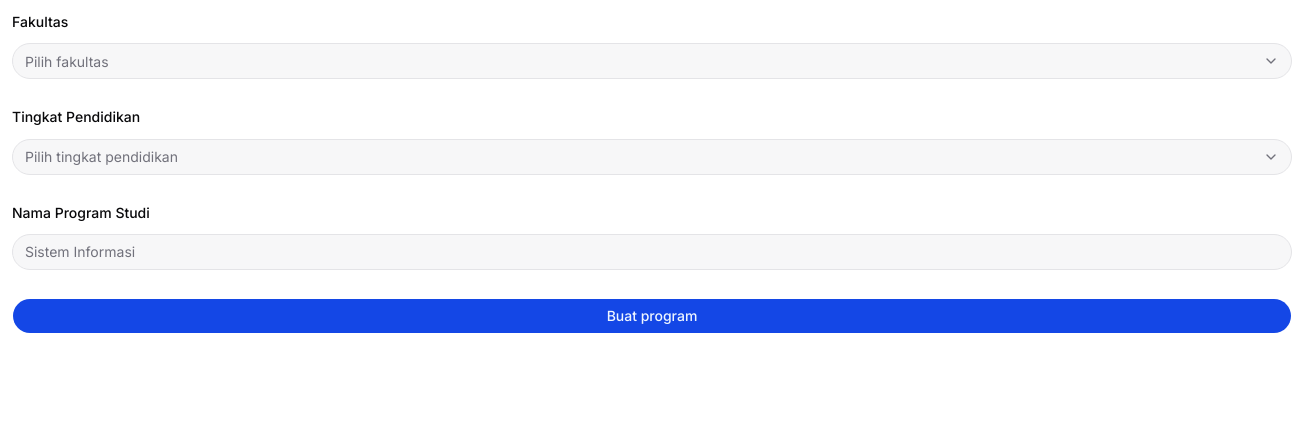
Test case: ProgramForm › Render › should show error when submit with invalid form
What coordinates should you click on to do the following:
click the button "Buat program"
I would click on:
 (652, 316)
Its box is [12, 298, 1292, 334].
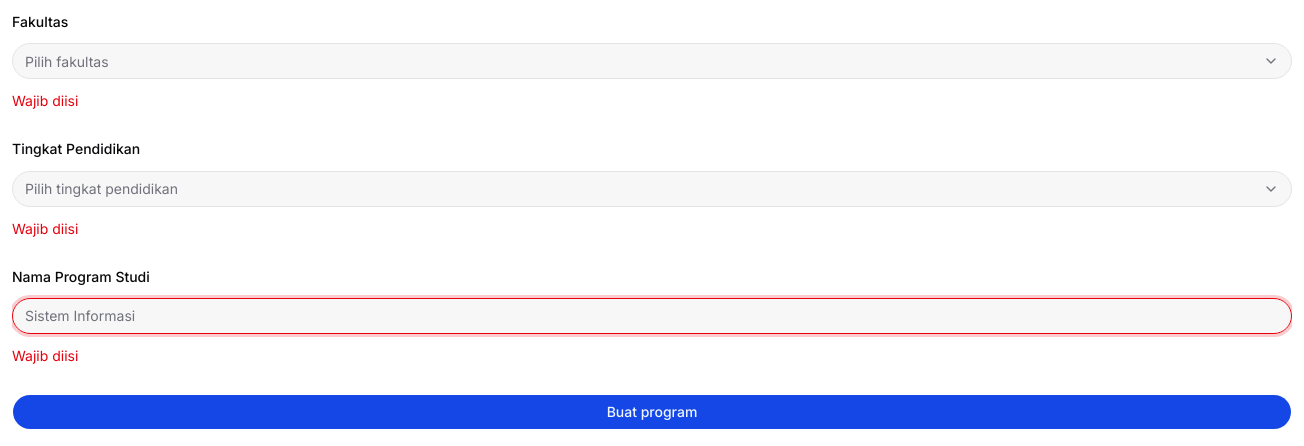
Expected: the text "Wajib diisi" below "Fakultas" is shown, [12, 92, 78, 109]
